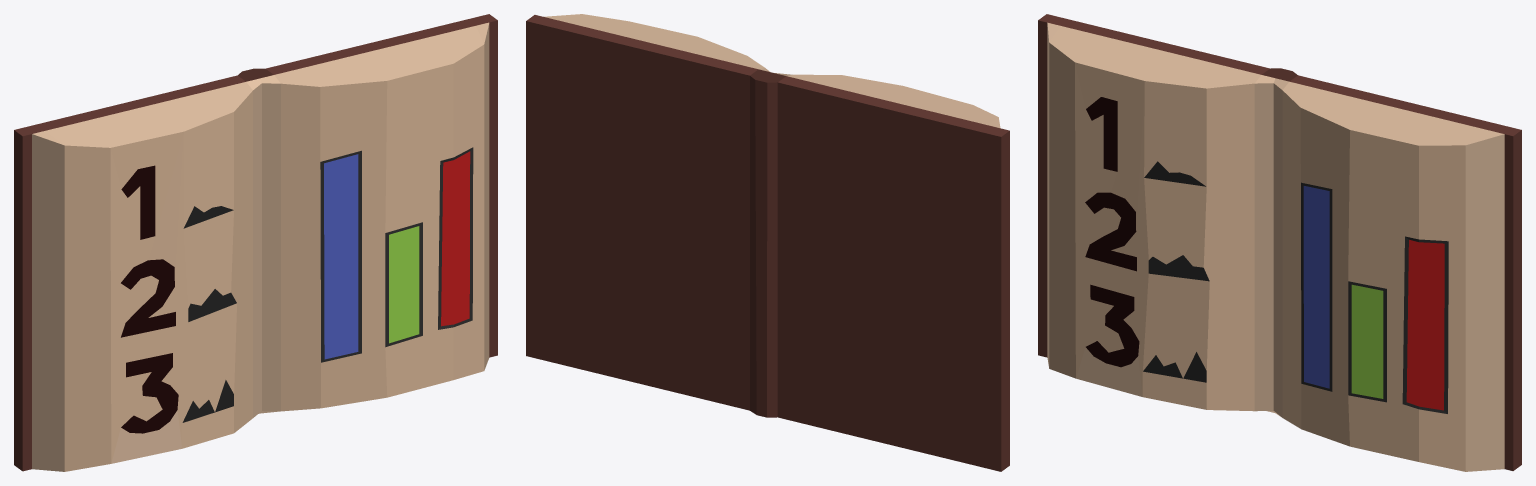
File: statistics_book.fbx
The picture shows the model from 3 angles, left to right: view 1: azimuth 30°, elevation 25°; view 2: azimuth 150°, elevation 25°; view 3: azimuth 330°, elevation 25°; orthographic projection.
Visible parts, largest first — view 1: statistics_book; view 2: statistics_book; view 3: statistics_book.
Boxes of the visible parts, x1,y1,x2,y2 form: statistics_book: (14, 14, 497, 471); statistics_book: (526, 14, 1009, 471); statistics_book: (1038, 14, 1521, 471).
Bounding box in the file's own units: 0.5433 × 0.3661 × 0.0774.
